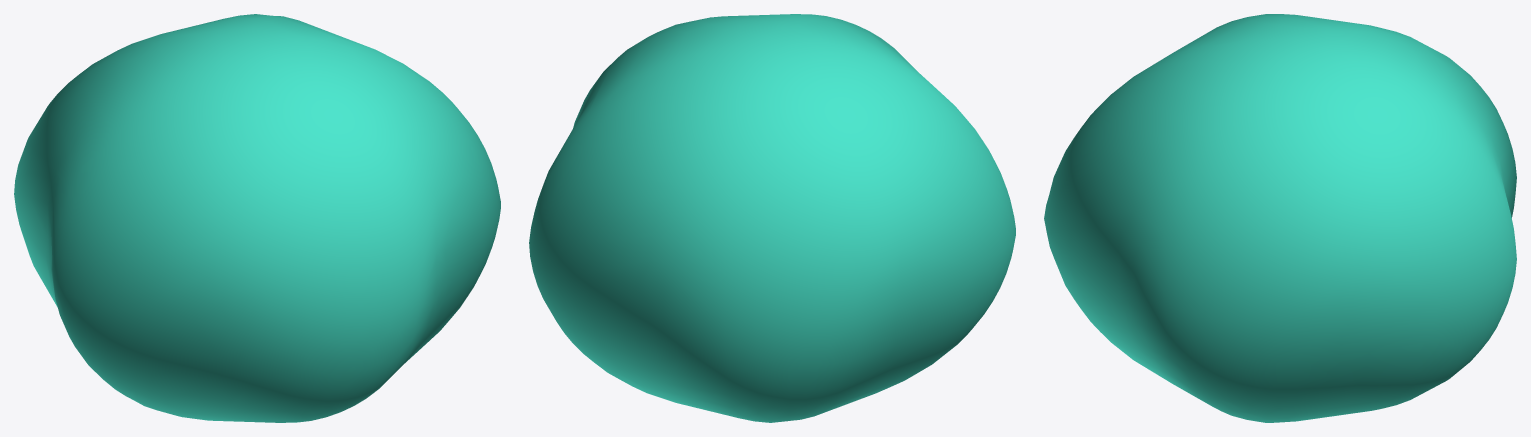
The model's file is engine_gem.glb.
3 renders of one model, left to right at view 1: azimuth 30°, elevation 25°; view 2: azimuth 150°, elevation 25°; view 3: azimuth 270°, elevation 25°, orthographic.
Visible parts, largest first — view 1: Gem; view 2: Gem; view 3: Gem.
Part boxes in pixels (bbox=[...]): Gem: bbox=[14, 14, 500, 422]; Gem: bbox=[529, 14, 1015, 422]; Gem: bbox=[1044, 14, 1516, 422].
Size of the model in its own units: 2.13 by 1.72 by 2.06.
